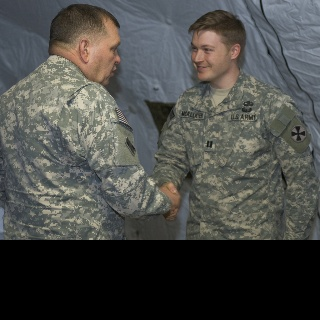without_mask: (191, 29, 230, 81), (89, 21, 120, 84)
